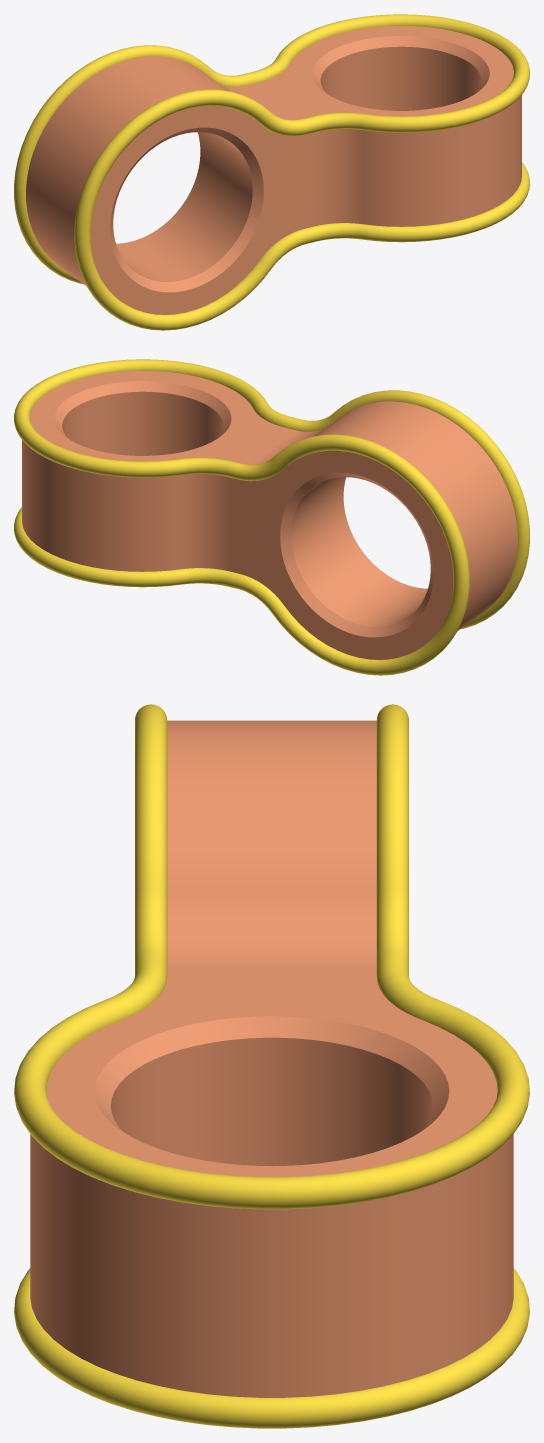
Rendered from EloComFuros.glb.
3 views of the same model, one above another, from view 1: azimuth 30°, elevation 25°; view 2: azimuth 150°, elevation 25°; view 3: azimuth 270°, elevation 25° (orthographic). The views are drawn at different scales.
Parts seen in each view (by area): view 1: Part 1; view 2: Part 1; view 3: Part 1.
Part boxes in pixels (<box>): Part 1: <box>14,14,529,330</box>; Part 1: <box>14,359,529,675</box>; Part 1: <box>14,704,529,1428</box>.
Size of the model in its own units: 0.067 by 0.032 by 0.032.
